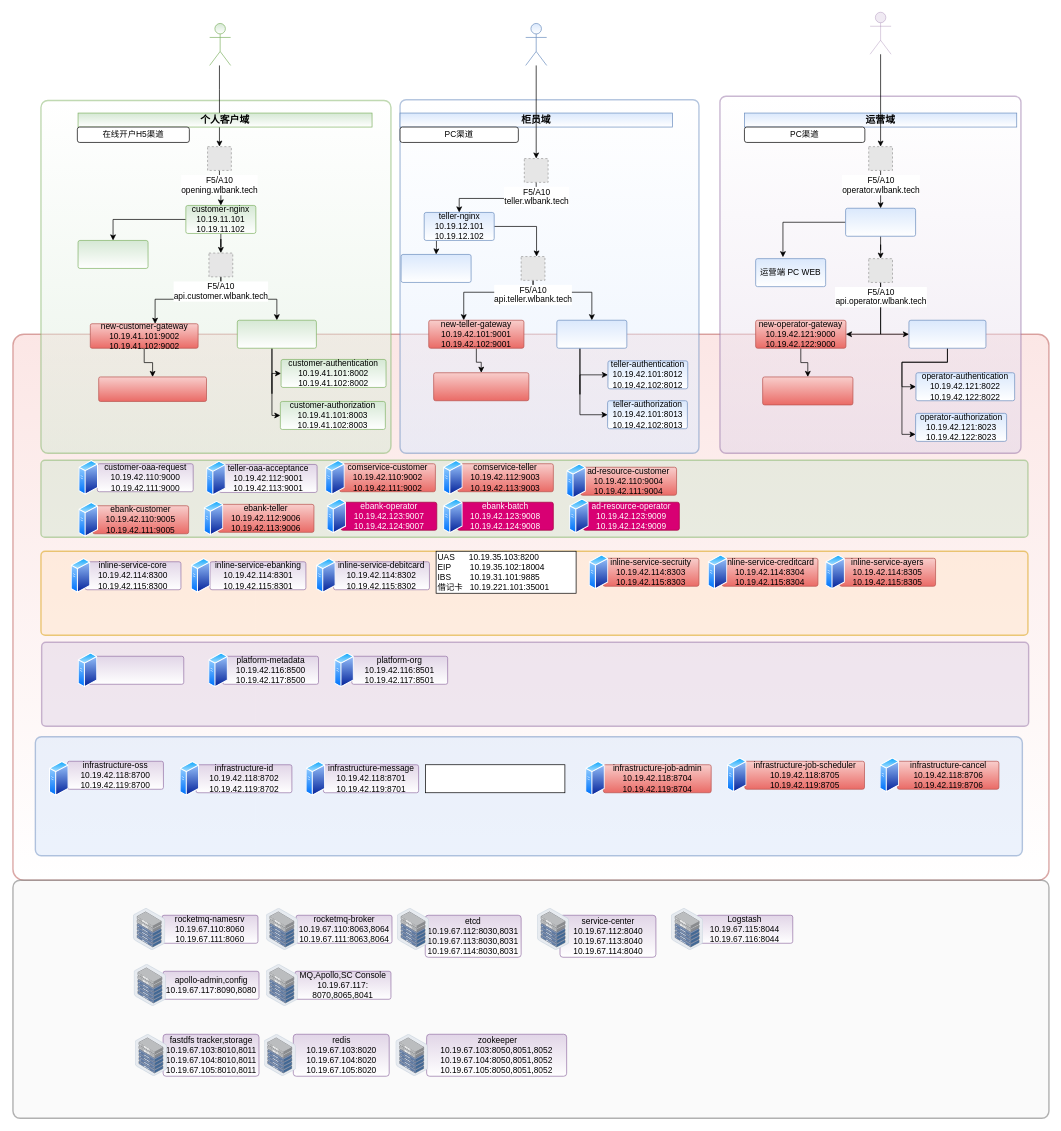
Image size: 1061x1131. Some labels were removed from this diagram. Grey dashed boxes stand in for pictures. Each missing label, with the box of its shape:
business-customer 10.19.42.116 :8100 10.19.42.117 :8100: (87, 656, 184, 684)
customer-auth 10.19.41.101:9012 10.19.41.102:9012: (98, 376, 206, 401)
customer-gateway 10.19.41.101:8001 10.19.41.102:8001: (237, 320, 316, 348)
operator-auth 10.19.42.121:9010 10.19.42.122:9010: (762, 376, 853, 405)
operator-gateway 10.19.42.121:8021 10.19.42.122:8021: (908, 320, 986, 348)
operator-nginx 10.19.12.110 10.19.12.111: (845, 208, 916, 236)
teller-auth 10.19.42.101:9011 10.19.42.102:9011: (433, 372, 529, 401)
teller-gateway 10.19.42.101:8011 10.19.42.102:8011: (556, 320, 627, 348)
个人客户: (209, 23, 231, 65)
在线开户 用户端 Web: (77, 240, 148, 268)
柜员: (525, 23, 547, 65)
柜员端 PC WEB: (400, 254, 471, 282)
要访问 10.19.13.101:2301 端口: (425, 764, 565, 793)
运营: (869, 12, 891, 54)
